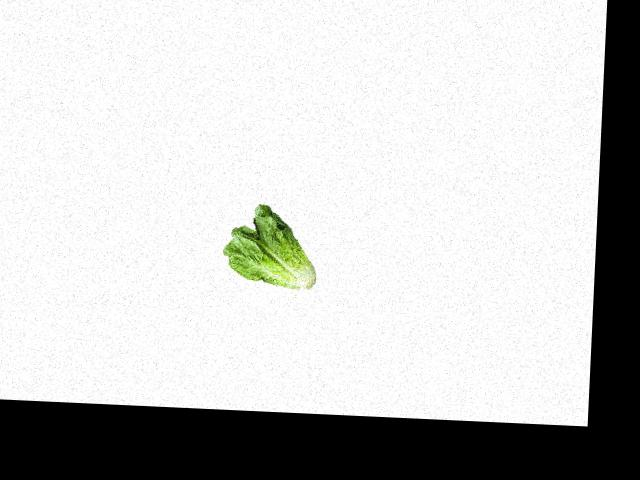lettuce: (221, 199, 325, 298)
